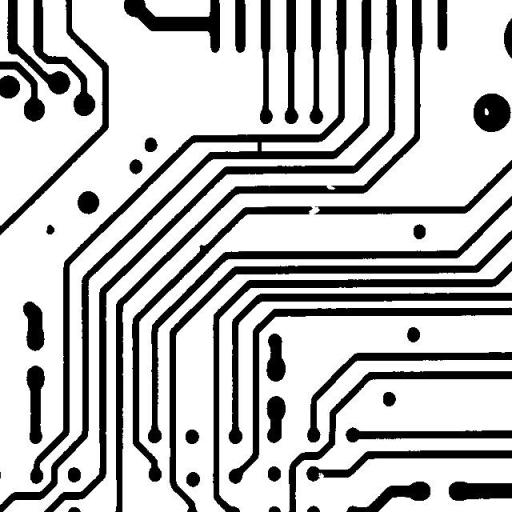copper: (38, 216, 62, 242)
mousebite: (318, 176, 342, 197), (310, 465, 332, 485)
open: (301, 194, 327, 222)
pin-hole: (477, 100, 496, 122)
short: (250, 130, 268, 164)
spur: (191, 236, 214, 262)
